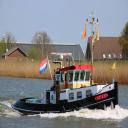tugboat: (12, 52, 120, 119)
